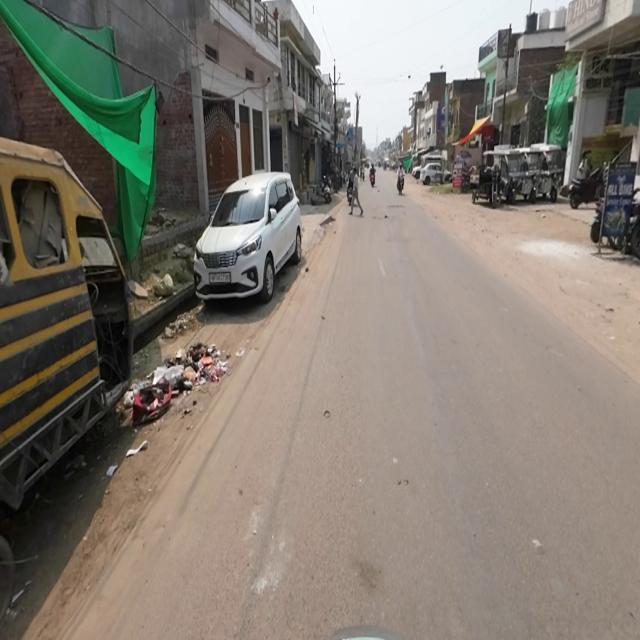Garbage: (126, 340, 216, 411)
